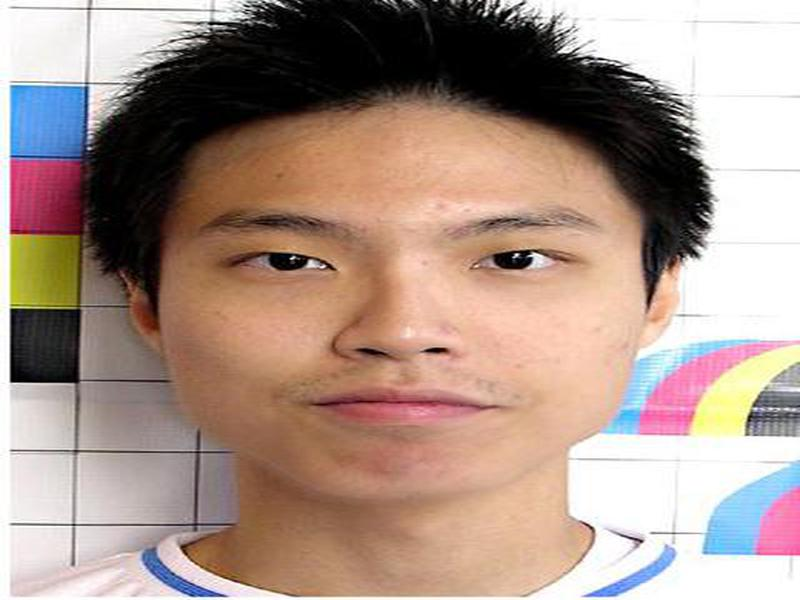without_mask: (158, 145, 649, 508)
